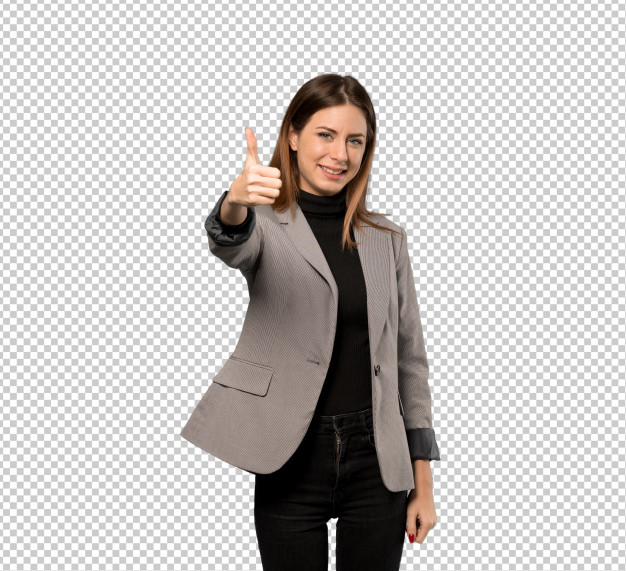thumbsup: (241, 126, 283, 206)
